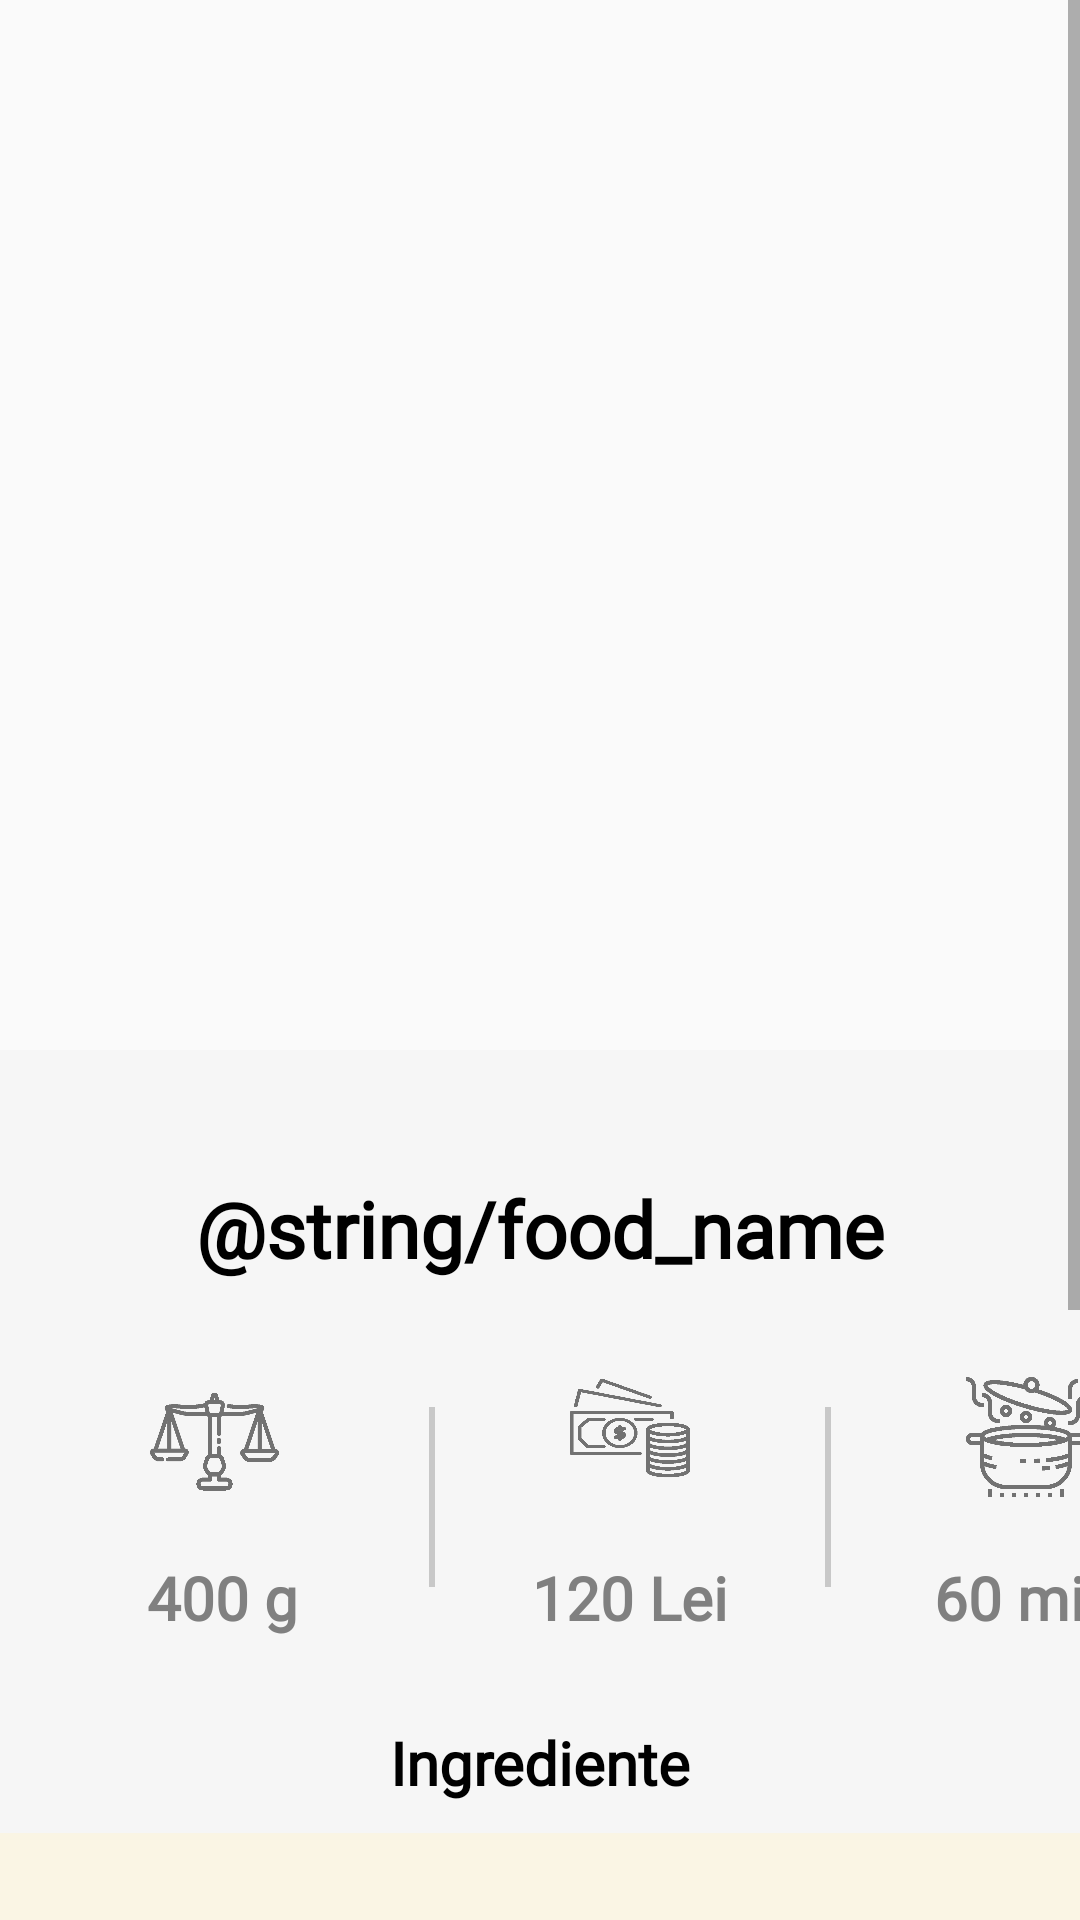

Where to tap for icons on this 1080w x 1920h app screen, as (x=x, y=y):
cooking time: (x=1023, y=1437)
libra: (x=214, y=1442)
money: (x=630, y=1428)
